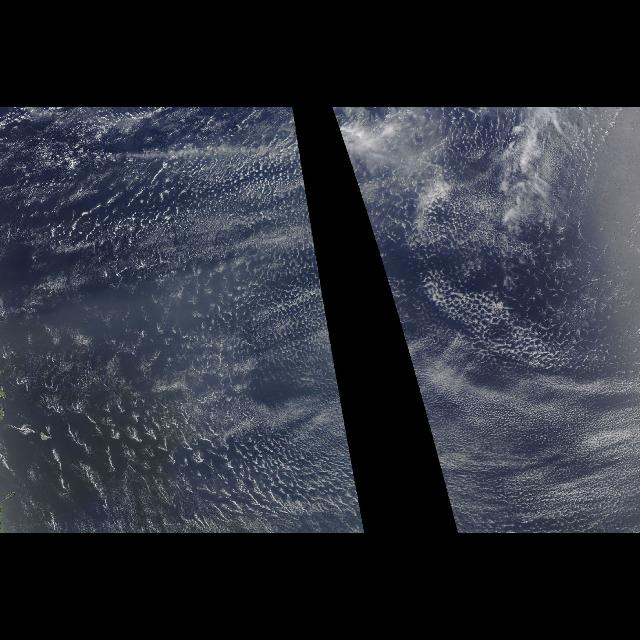Gravel: (414, 139, 590, 383)
Sugar: (6, 112, 364, 528), (332, 112, 638, 528)
